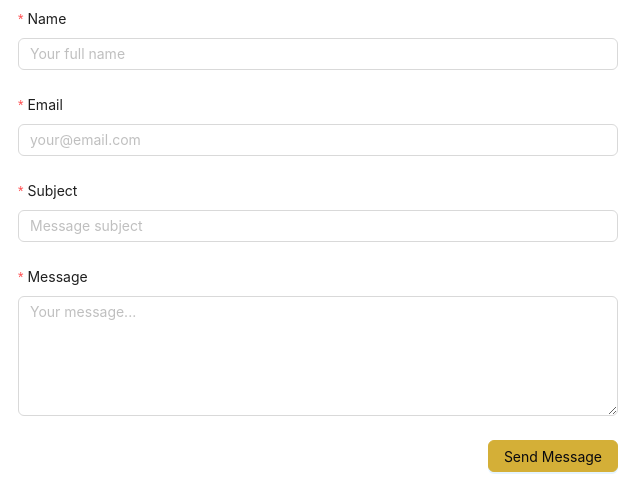
Test: ContactForm › invalid email shows inline email error
Type "not-a-valid-email" into the field with placeholder "your@email.com". click: (318, 140)
box: [18,124,618,156]
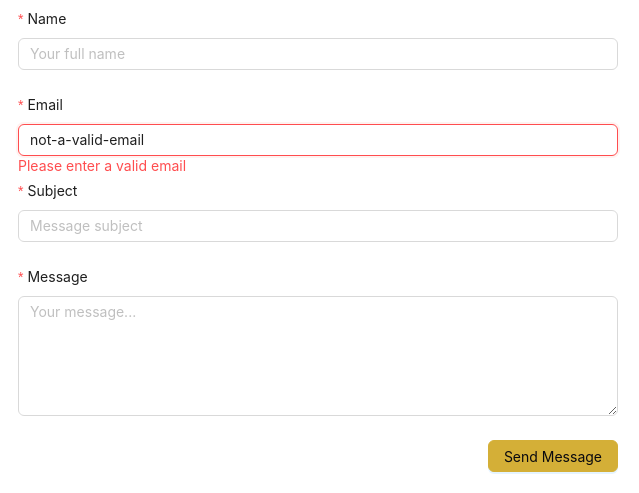
Click the button "Send Message". click: click(553, 456)
box: [488,440,618,472]
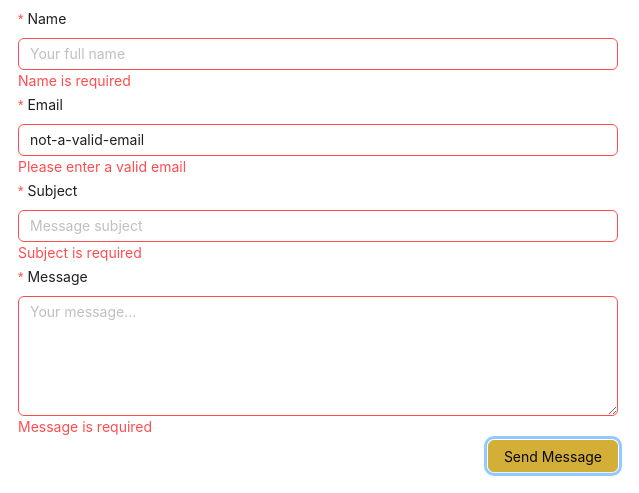
Now the text "Please enter a valid email" is shown, box [18,158,186,175]
